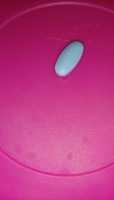Apranax: (54, 40, 85, 79)
